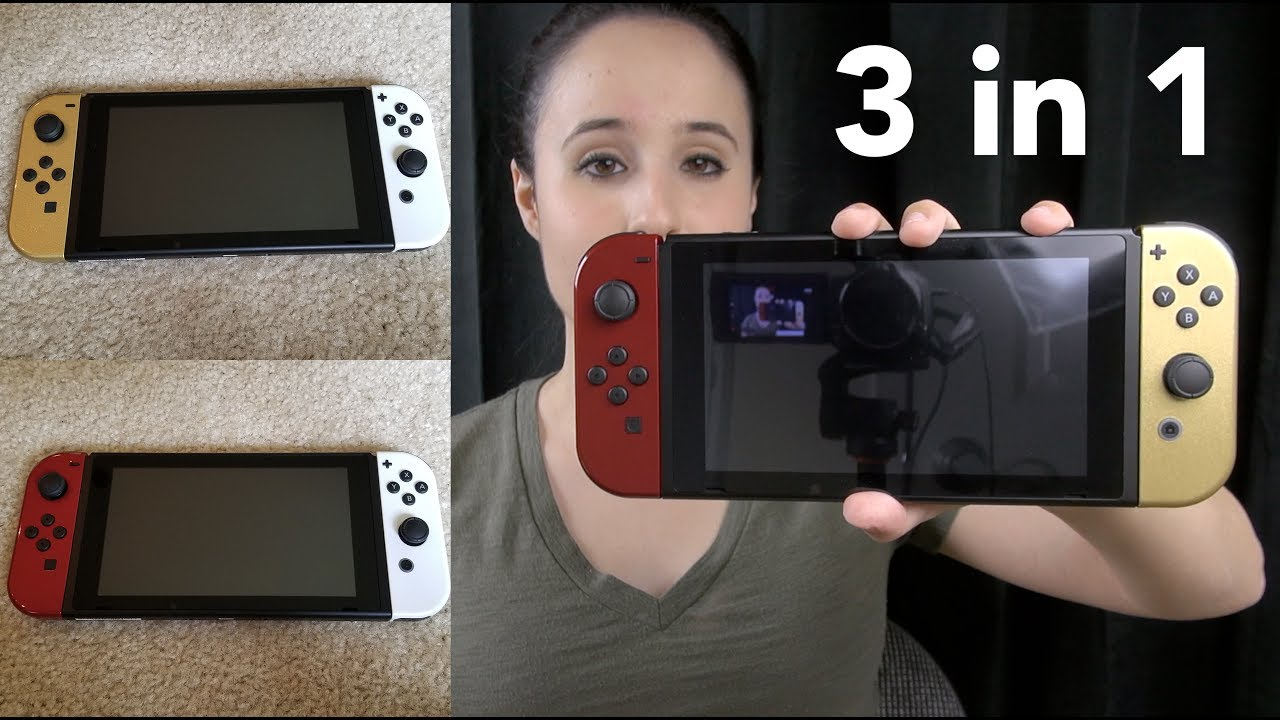NintendoSwitch: (567, 223, 1248, 511), (11, 80, 456, 262), (9, 448, 451, 622)
